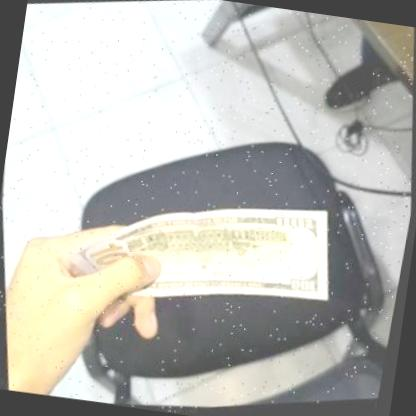one_hundred-back: (37, 150, 355, 361)
